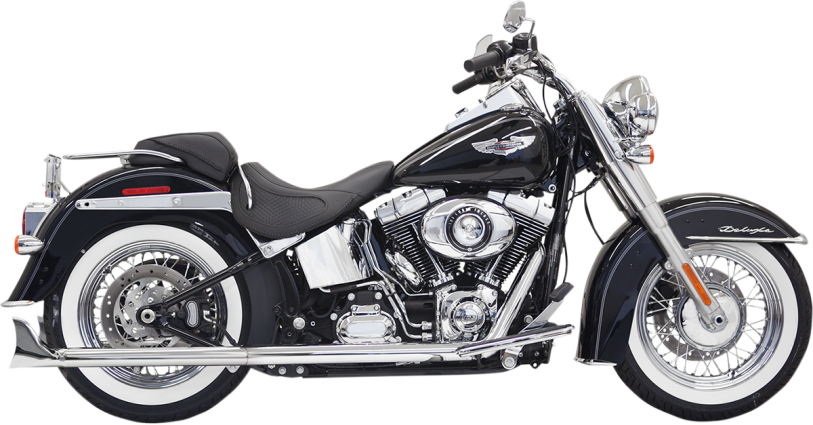Motor Cycle: (8, 1, 810, 422)
